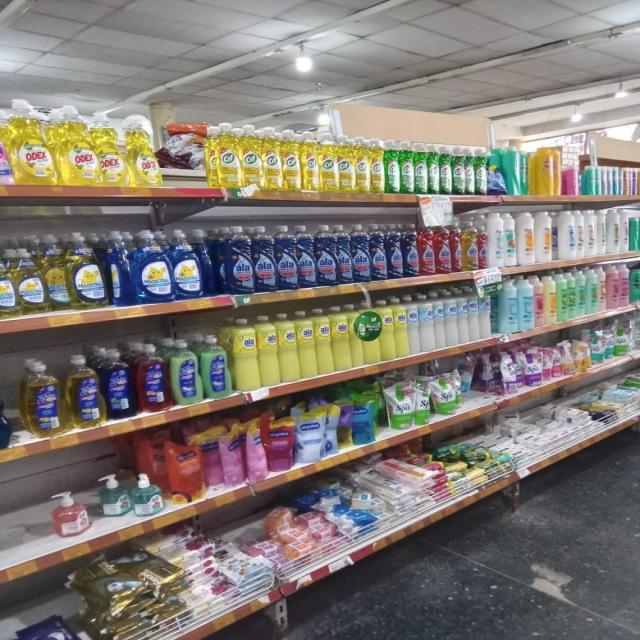ala_conc_amarillo: (462, 219, 478, 271)
ala_conc_azul: (222, 225, 252, 294), (253, 225, 276, 292), (276, 224, 297, 290), (316, 224, 336, 286), (298, 225, 316, 288), (352, 224, 370, 282), (370, 224, 387, 281), (336, 224, 352, 284), (403, 222, 418, 278), (387, 223, 402, 279)
ala_conc_rojo: (435, 223, 450, 274), (420, 222, 434, 276), (478, 218, 489, 270), (451, 221, 462, 272)
ala_crem_amarillo: (231, 317, 258, 392), (278, 312, 298, 383), (259, 314, 278, 388), (332, 305, 350, 371), (315, 307, 332, 375), (298, 310, 314, 379), (380, 299, 394, 361), (394, 297, 408, 358)
ala_crem_blanco: (420, 295, 434, 352), (408, 296, 420, 355), (445, 293, 458, 347), (434, 294, 445, 350), (458, 292, 469, 344), (469, 290, 480, 342), (480, 289, 491, 339)
cif_conc_bot_amarilla: (212, 122, 240, 189), (240, 124, 262, 189), (262, 126, 281, 190), (282, 128, 300, 191), (300, 130, 318, 191), (319, 134, 337, 192), (338, 136, 355, 192), (356, 136, 370, 192), (370, 138, 384, 193)
cif_conc_botella_verde: (399, 141, 414, 194), (385, 140, 399, 193), (414, 143, 428, 194), (475, 147, 487, 195), (452, 146, 464, 194), (440, 145, 451, 195), (428, 144, 439, 194), (464, 147, 475, 195)
magistral_con_amarillo: (69, 232, 106, 310), (17, 246, 45, 315), (44, 234, 68, 312), (0, 247, 16, 319)
magistral_con_azul: (134, 229, 171, 304), (171, 228, 206, 300), (108, 230, 133, 307)
zorro: (21, 359, 64, 436), (66, 354, 101, 428), (103, 347, 133, 420), (170, 338, 200, 405), (202, 334, 230, 398)
